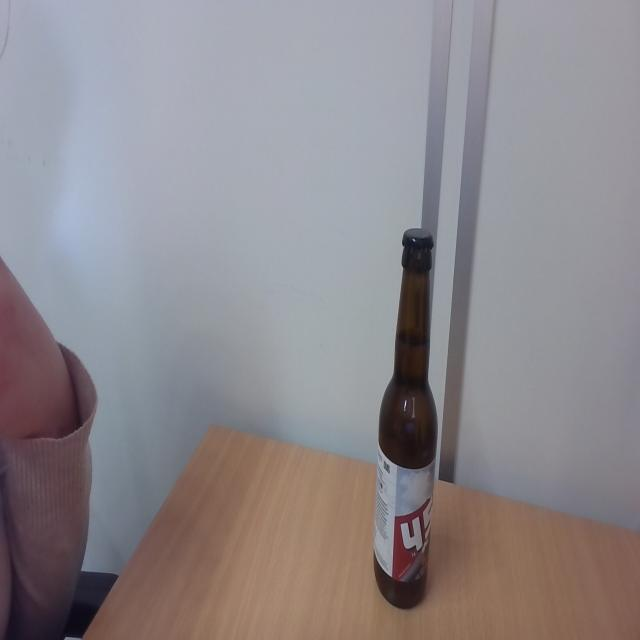Bottle: (373, 254, 437, 608)
Cap: (398, 226, 436, 253)
Label: (373, 451, 435, 579)
